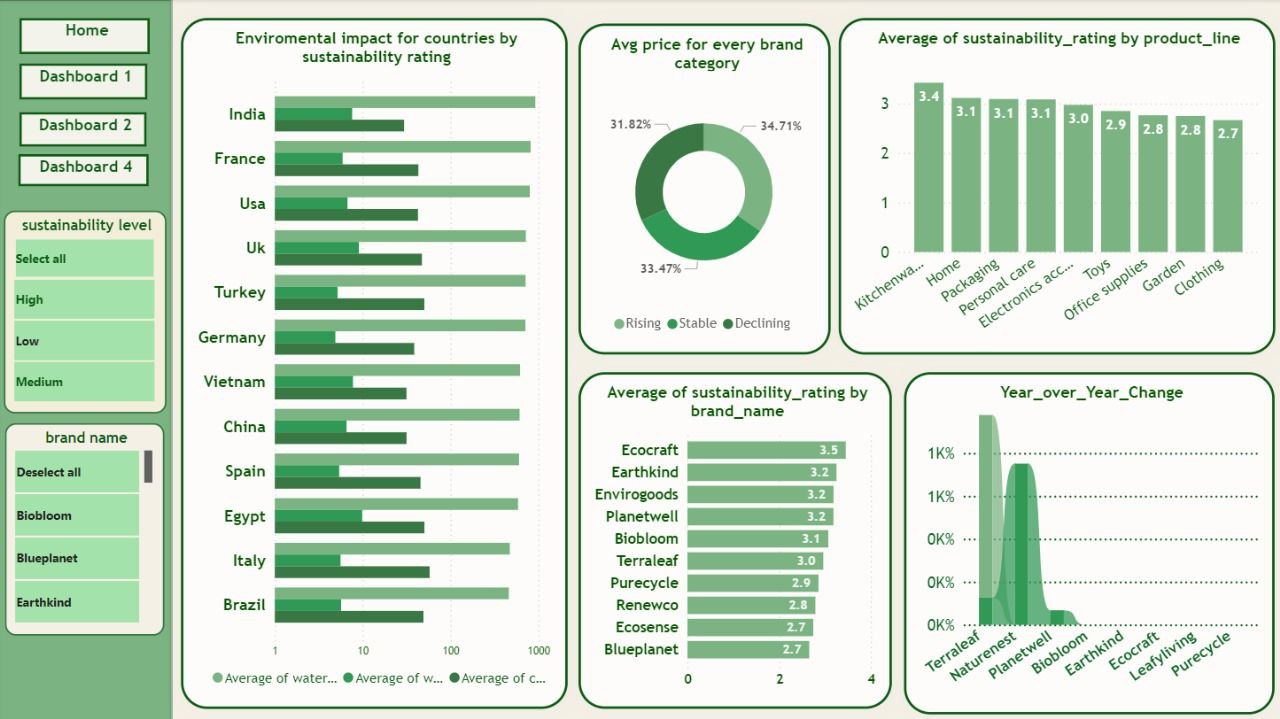

This screenshot's page, from the dashboard's own definition file:
{"tool":"powerbi","page":{"name":"Dashboard3","canvas":[1280,720],"ordinal":3},"visuals":[{"type":"clusteredColumnChart","fields":{"Category":["Sustainability_Fact.product_line"],"Y":["Avg(Sustainability_Fact.sustainability_rating)"]},"box":[834.6,18.7,433.2,334.3],"z":0},{"type":"clusteredBarChart","fields":{"Category":["Brand_dim.brand_name"],"Y":["Avg(Sustainability_Fact.sustainability_rating)"]},"box":[576.2,370.6,311.2,334.3],"z":1000},{"type":"donutChart","title":"Avg price for every brand category","fields":{"Category":["Market_Trend_dim.market_trend","Brand_dim.brand_category"],"Y":["Avg(Sustainability_Fact.sustainability_rating)"]},"box":[576.2,24.2,250.7,328.8],"z":2000},{"type":"ribbonChart","title":"Year_over_Year_Change","fields":{"Category":["Brand_dim.brand_name"],"Y":["Divide(Measure.Year_over_Year_Change_in_Water_Usage, ScopedEval(Measure.Year_over_Year_Change_in_Water_Usage, []))","Divide(Measure.YoY_Change_Carbon_Footprint, ScopedEval(Measure.YoY_Change_Carbon_Footprint, []))"]},"box":[899.5,370.6,368.4,339.8],"z":3000},{"type":"shape","box":[0,0,172.6,720.2],"z":4000},{"type":"actionButton","title":"Home","box":[20.9,18.7,129.8,36.3],"z":5000},{"type":"actionButton","title":"Dashboard 2","box":[20.9,112.2,126.5,34.1],"z":6000},{"type":"actionButton","title":"Dashboard 1","box":[20.9,63.8,127.6,36.3],"z":7000},{"type":"actionButton","title":"Dashboard 4","box":[19.8,153.9,129.8,31.9],"z":8000},{"type":"listSlicer","title":"brand name","fields":{"Values":["Brand_dim.brand_name"]},"box":[6.6,421.1,158.3,211.1],"z":9000},{"type":"listSlicer","title":"sustainability level","fields":{"Values":["Sustainability_Fact.sustainability_level"]},"box":[5.5,210,161.6,201.2],"z":10000},{"type":"clusteredBarChart","title":" Enviromental impact for  countries by sustainability rating","fields":{"Category":["Country_dim.country_name"],"Y":["Avg(Sustainability_Fact.water_usage)","Avg(Sustainability_Fact.waste_production)","Avg(Sustainability_Fact.carbon_footprint)"]},"box":[181.4,18.7,383.8,686.1],"z":11000}]}

Visuals, with their boxes in screenshot pixels (x1, y1, x2, y2), scaled from the page's 1280x720 canvas onto the 1280x719 screenshot:
clusteredColumnChart - Sustainability_Fact.product_line x Avg(Sustainability_Fact.sustainability_rating): bbox(835, 19, 1268, 353)
clusteredBarChart - Brand_dim.brand_name x Avg(Sustainability_Fact.sustainability_rating): bbox(576, 370, 887, 704)
"Avg price for every brand category" donutChart: bbox(576, 24, 827, 353)
"Year_over_Year_Change" ribbonChart: bbox(900, 370, 1268, 709)
shape: bbox(0, 0, 173, 718)
"Home" actionButton: bbox(21, 19, 151, 55)
"Dashboard 2" actionButton: bbox(21, 112, 147, 146)
"Dashboard 1" actionButton: bbox(21, 64, 148, 100)
"Dashboard 4" actionButton: bbox(20, 154, 150, 186)
"brand name" listSlicer: bbox(7, 421, 165, 631)
"sustainability level" listSlicer: bbox(6, 210, 167, 411)
" Enviromental impact for  countries by sustainability rating" clusteredBarChart: bbox(181, 19, 565, 704)
